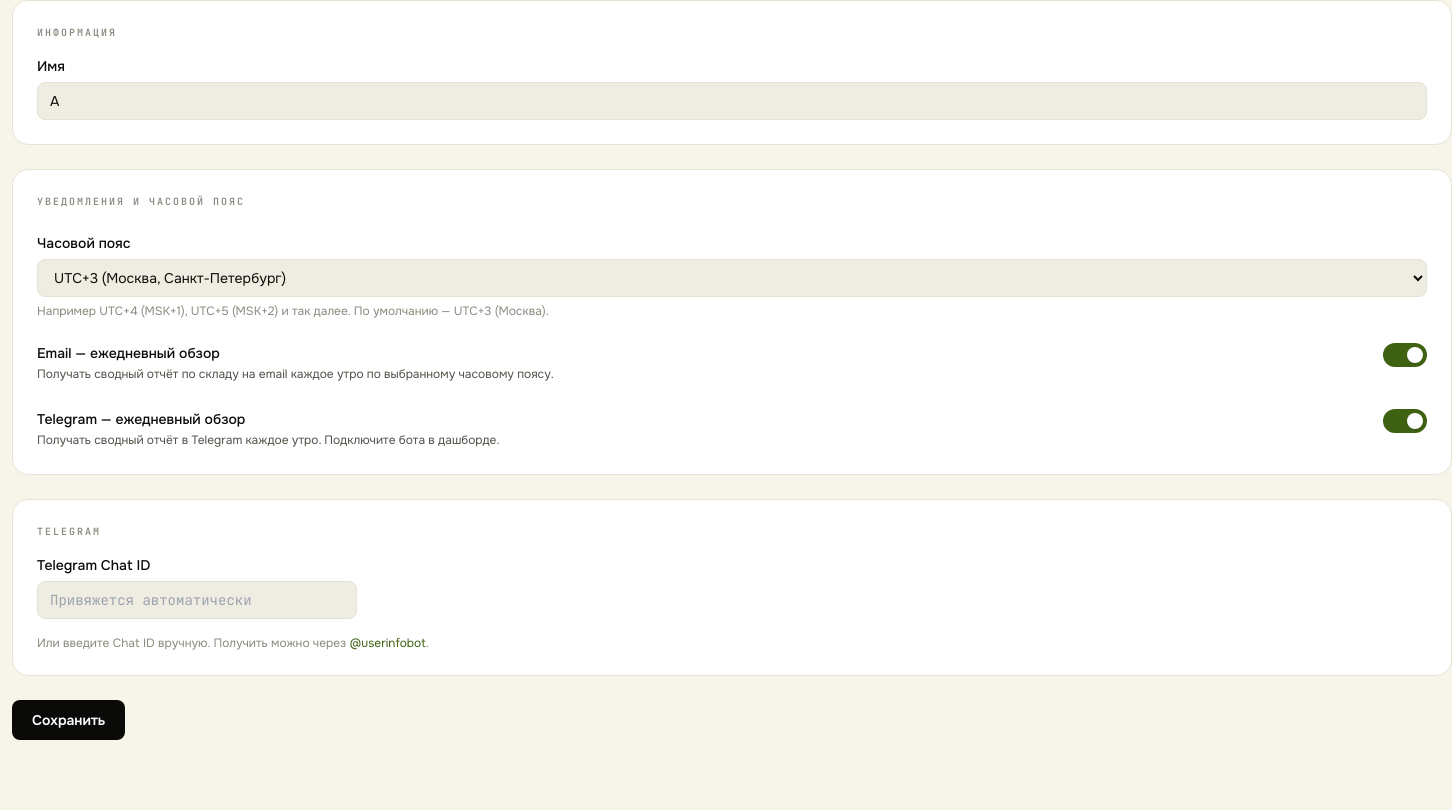
it: SettingsForm › при успехе — 'Сохранено'
The image size is (1452, 810).
Step 1. Click the button "Сохранить" → (69, 720), box [12, 700, 125, 740]
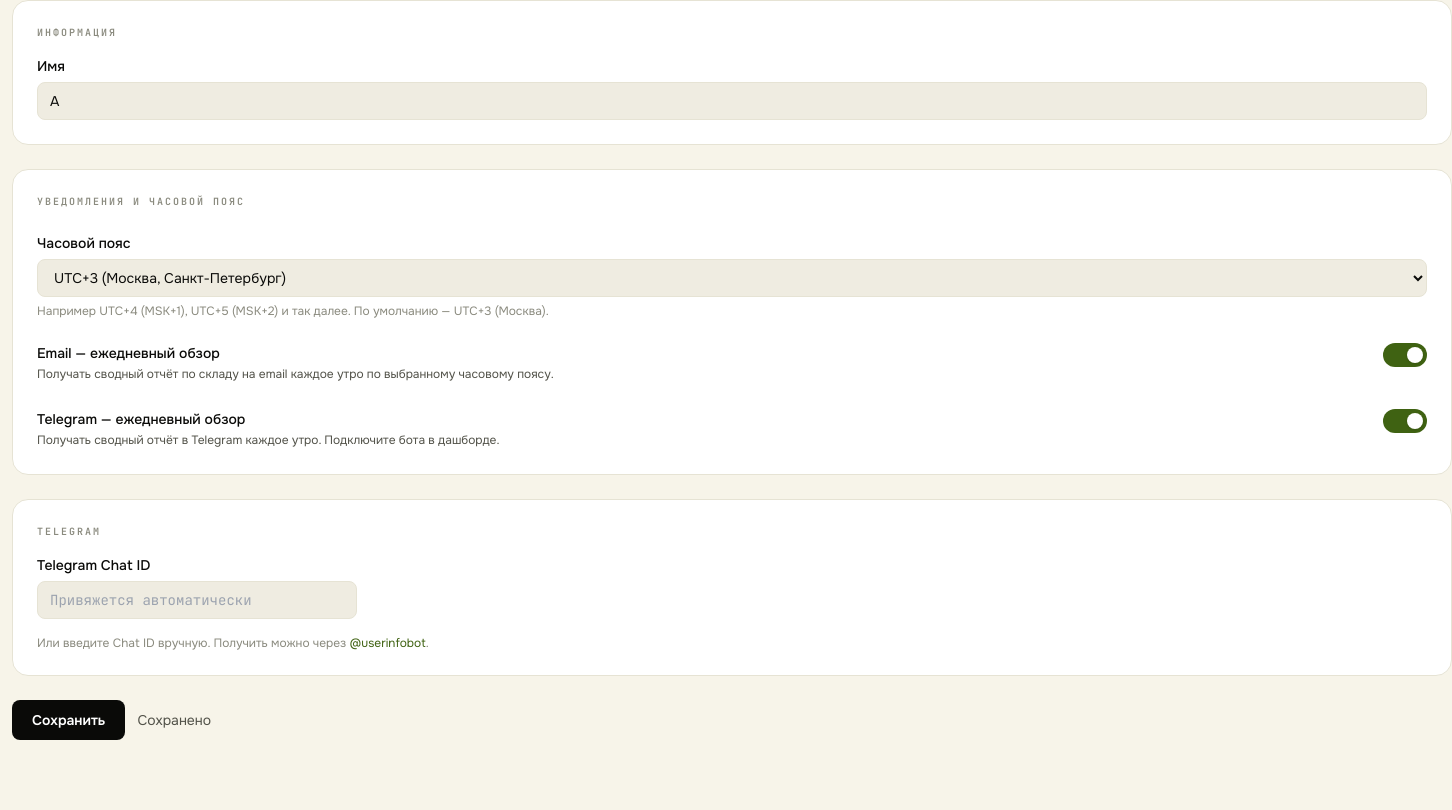
Result: the text "Сохранено" is shown at [137, 710, 211, 730]
